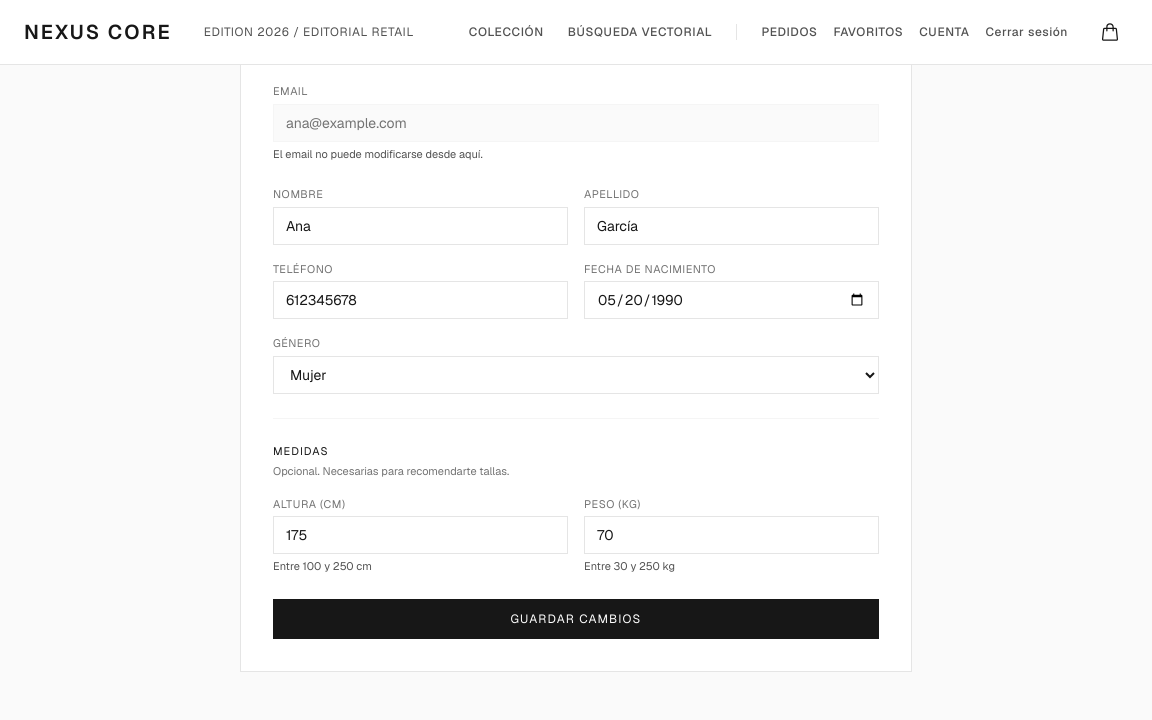
Test case: ProfilePage › debe traducir un error técnico de la API a un mensaje amigable
(page scrolled)
Check: the field labelled "Nombre" is shown, box [273,206,568,244]
Click the button "Guardar cambios": [576, 618] box [273,598,879,638]
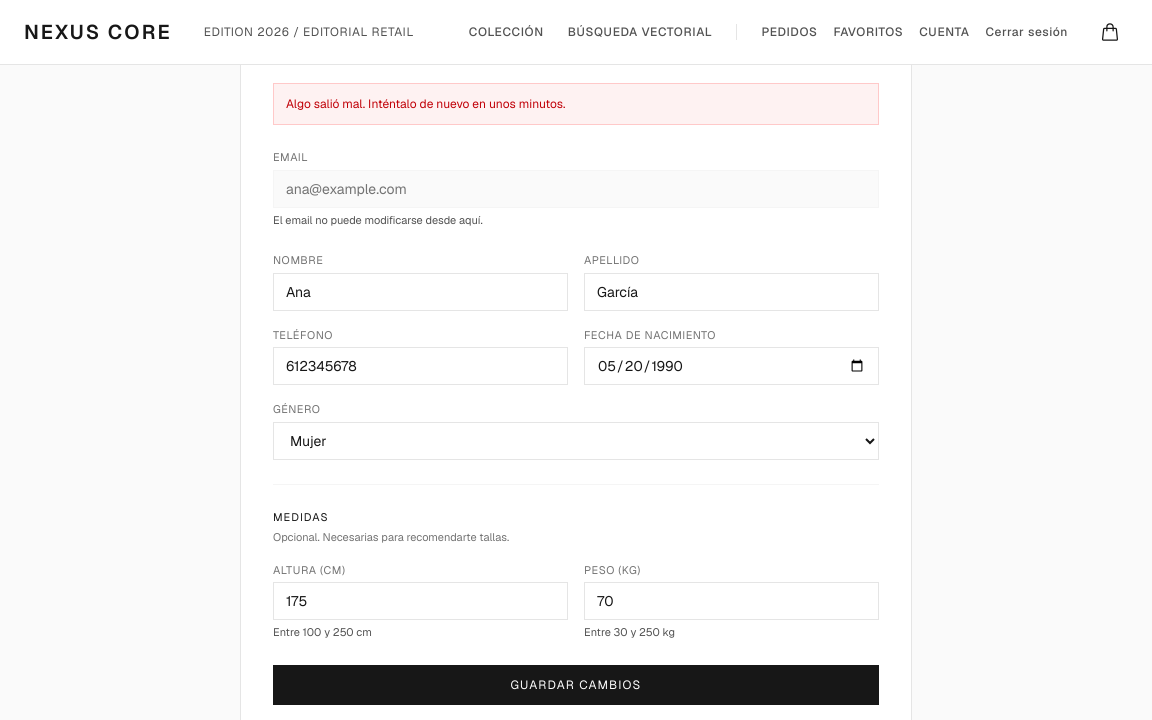
Check: the message does not show "API Error", box [273,83,879,125]
Check: the message reads "Algo salió mal. Inténtalo de nuevo en unos minutos.", box [286,96,565,112]
